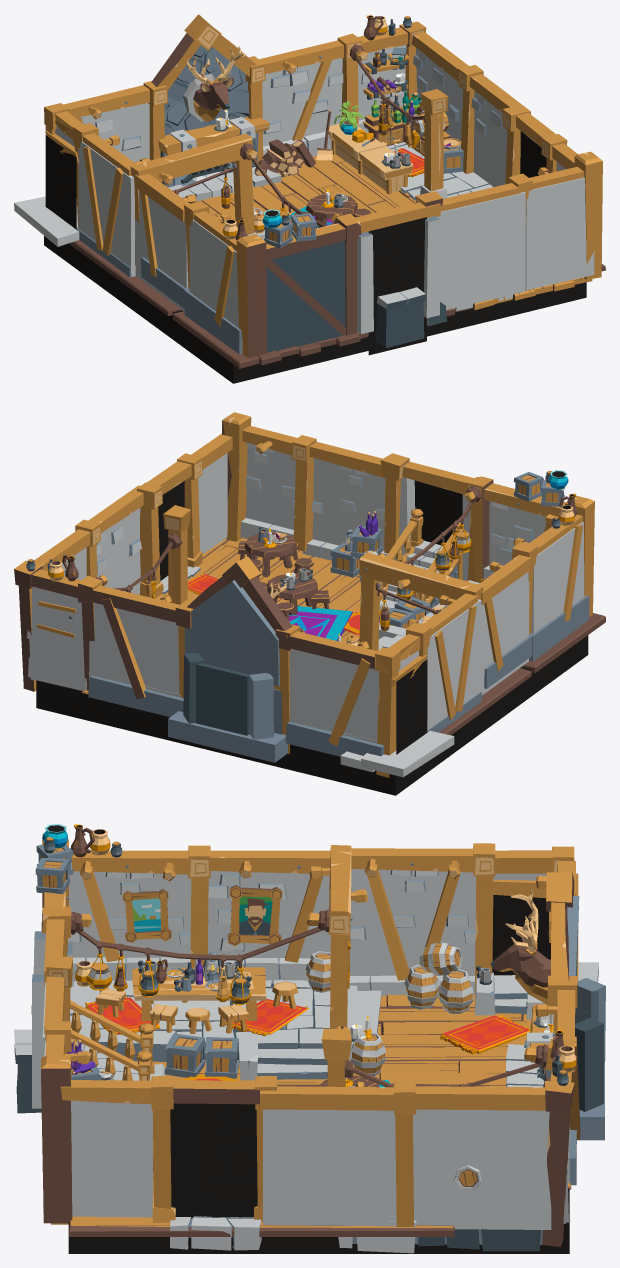
3 views of the same model, one above another, from view 1: azimuth 30°, elevation 25°; view 2: azimuth 150°, elevation 25°; view 3: azimuth 270°, elevation 25° (orthographic). The views are drawn at different scales.
Visible parts, largest first — view 1: Cozy Cove; view 2: Cozy Cove; view 3: Cozy Cove.
Boxes of the visible parts, <box> form: Cozy Cove: <box>14,14,605,383</box>; Cozy Cove: <box>14,412,605,795</box>; Cozy Cove: <box>14,824,605,1253</box>.
Size of the model in its own units: 9.66 by 4.48 by 9.44.
3 materials, 3 textured.
